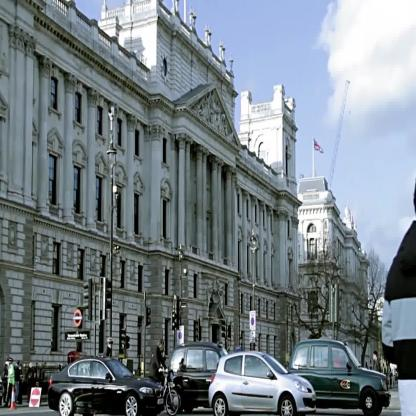car: (289, 340, 391, 416), (208, 351, 317, 416), (48, 357, 164, 416), (170, 344, 228, 416)
motorcycle: (150, 340, 180, 415)
